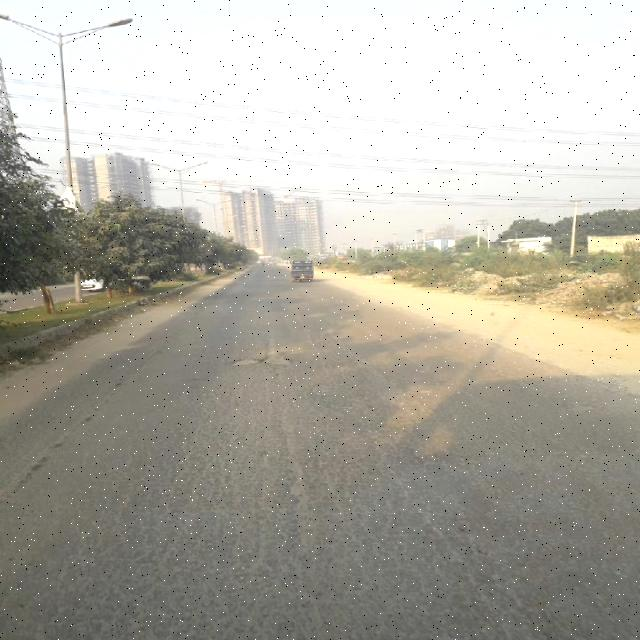D00: (310, 332, 468, 568), (273, 392, 323, 602)
D20: (27, 333, 584, 631)
D40: (228, 343, 298, 371)
